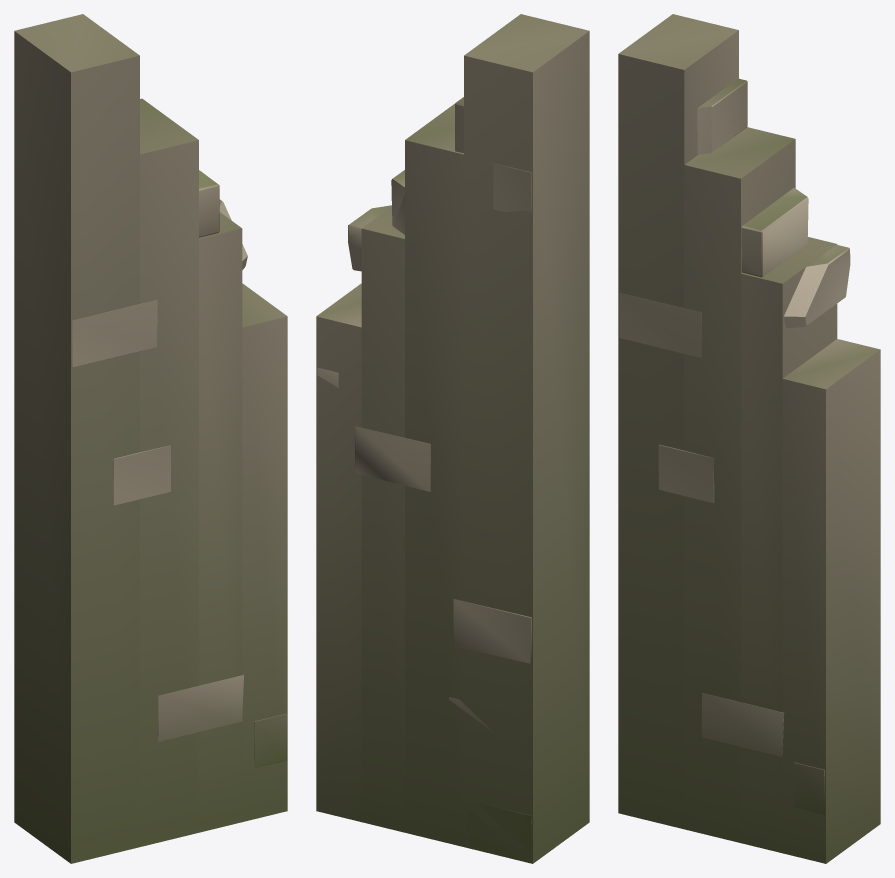
The model's file is theatre_stage_end.glb.
3 views of the same model, side by side, from view 1: azimuth 30°, elevation 25°; view 2: azimuth 150°, elevation 25°; view 3: azimuth 330°, elevation 25° (orthographic). The views are drawn at different scales.
Parts seen in each view (by area): view 1: theatre_stage_end_far, theatre_stage_end; view 2: theatre_stage_end_far, theatre_stage_end; view 3: theatre_stage_end_far, theatre_stage_end.
Boxes of the visible parts, <box> form: theatre_stage_end_far: <box>14,14,287,863</box>; theatre_stage_end: <box>72,170,286,767</box>; theatre_stage_end_far: <box>316,14,589,863</box>; theatre_stage_end: <box>317,97,531,857</box>; theatre_stage_end_far: <box>618,14,880,863</box>; theatre_stage_end: <box>619,78,850,814</box>.
Size of the model in its own units: 11 by 38.4 by 5.05.
